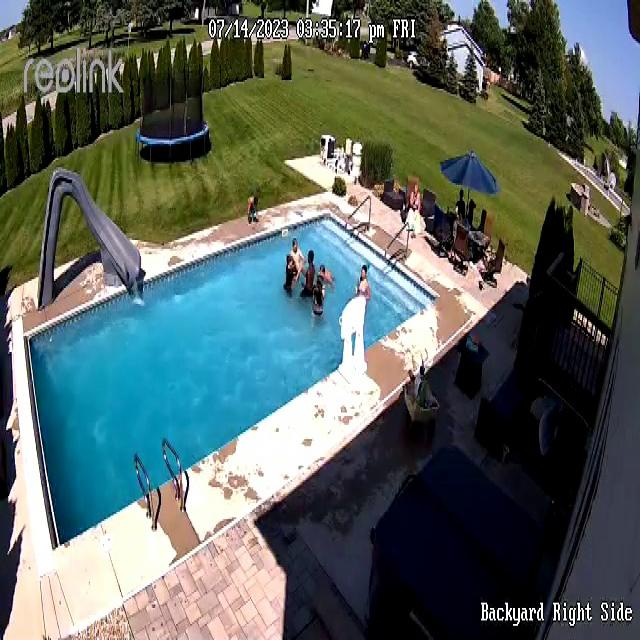adult: (302, 250, 314, 301), (290, 238, 304, 281), (313, 276, 326, 319), (358, 266, 370, 306), (286, 255, 295, 299)
child: (248, 195, 259, 226)
